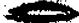Mouth: (2, 0, 79, 23)
